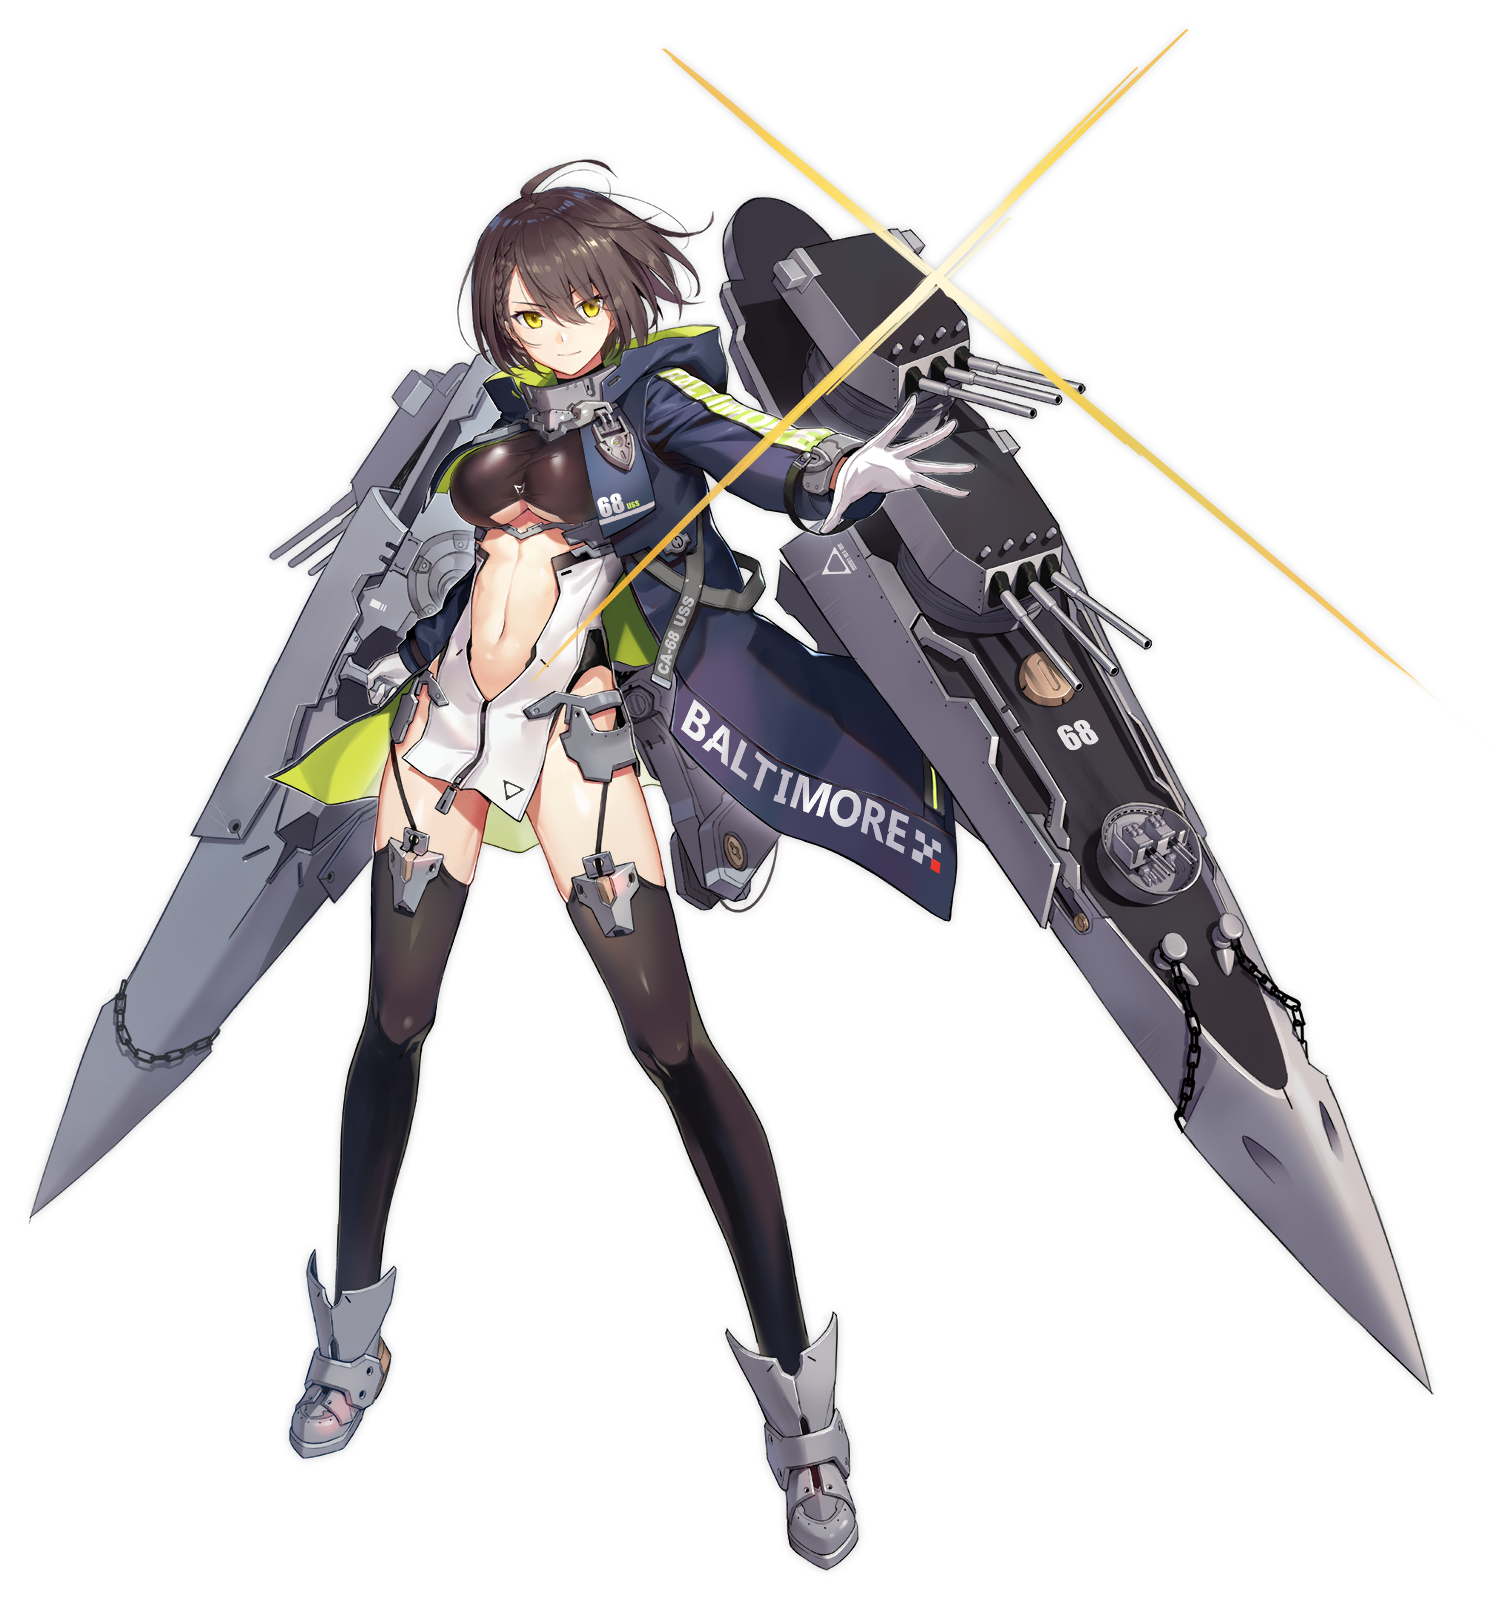person: (236, 164, 825, 1159)
